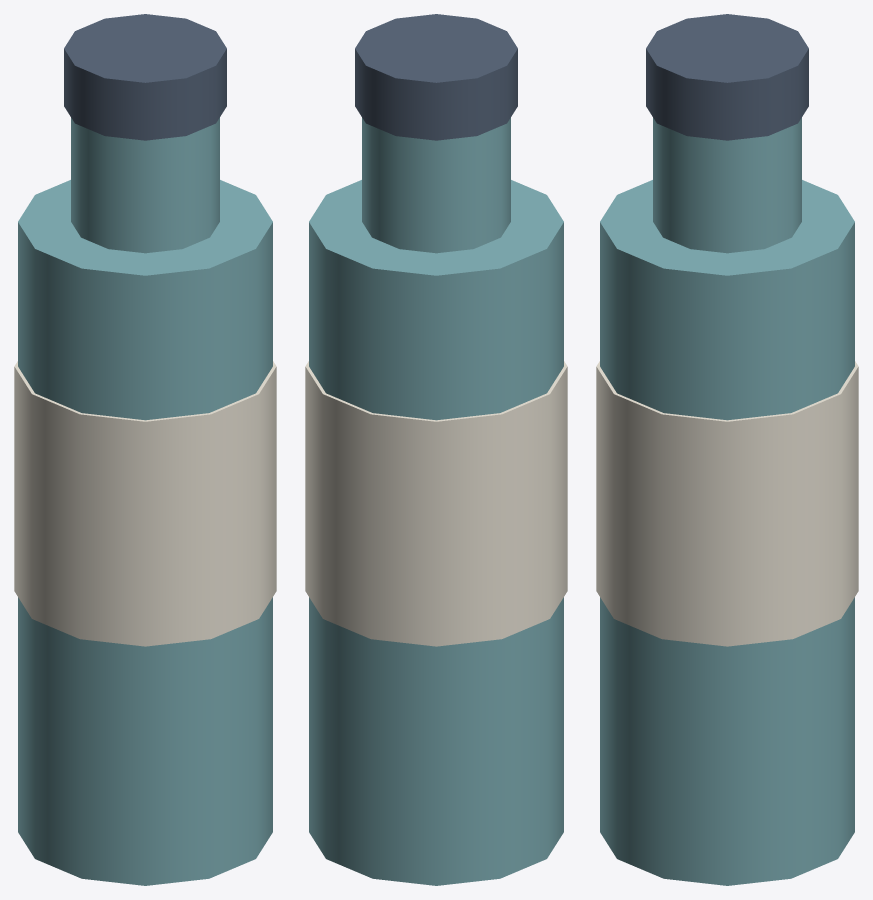
Rendered from officeBottle.glb.
3 views of the same model, side by side, from view 1: azimuth 30°, elevation 25°; view 2: azimuth 150°, elevation 25°; view 3: azimuth 270°, elevation 25° (orthographic).
Size of the model in its own units: 0.074 by 0.244 by 0.074.
